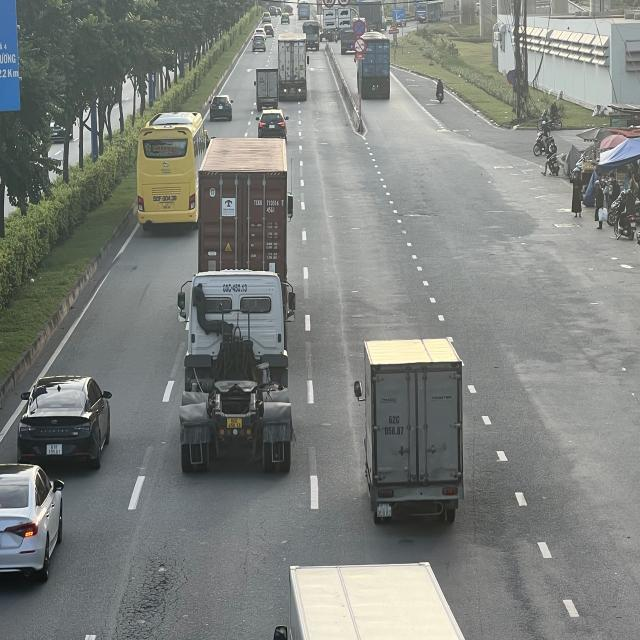car: (19, 376, 113, 470), (1, 462, 67, 589), (258, 110, 288, 141), (208, 97, 236, 123), (253, 39, 266, 54), (261, 10, 272, 23), (262, 24, 274, 35), (280, 13, 290, 25)
coach: (136, 110, 205, 228), (416, 0, 444, 21)
container: (176, 269, 296, 468), (198, 136, 289, 279), (356, 32, 391, 96), (278, 32, 309, 96)
truck: (356, 338, 462, 524), (254, 68, 280, 108), (302, 20, 321, 50)
